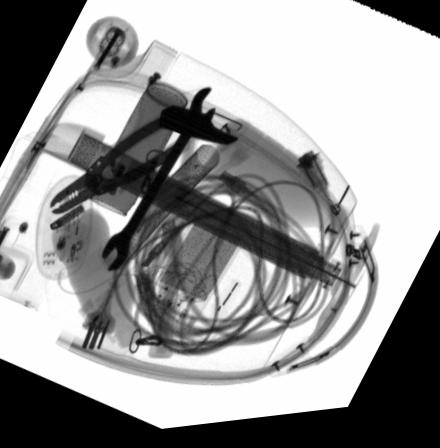Hammer: (149, 108, 239, 360)
Pliers: (48, 114, 193, 216)
Powerbank: (137, 203, 252, 343)
Wrench: (100, 93, 216, 273)
